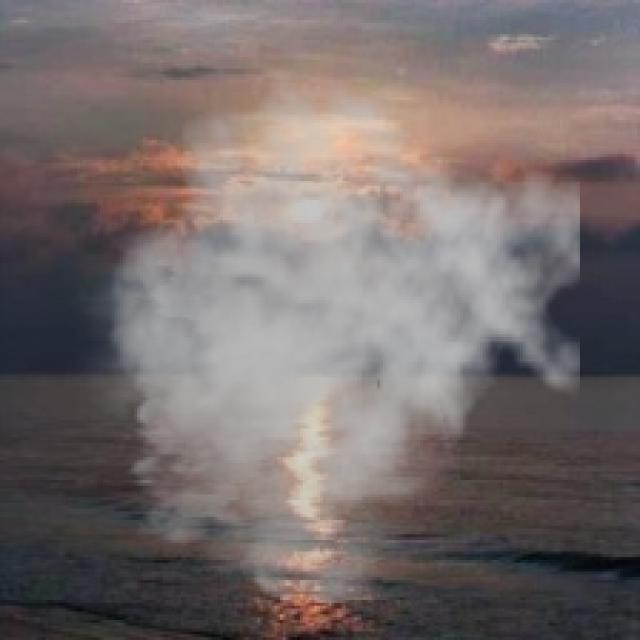smoke: (60, 65, 580, 606)
